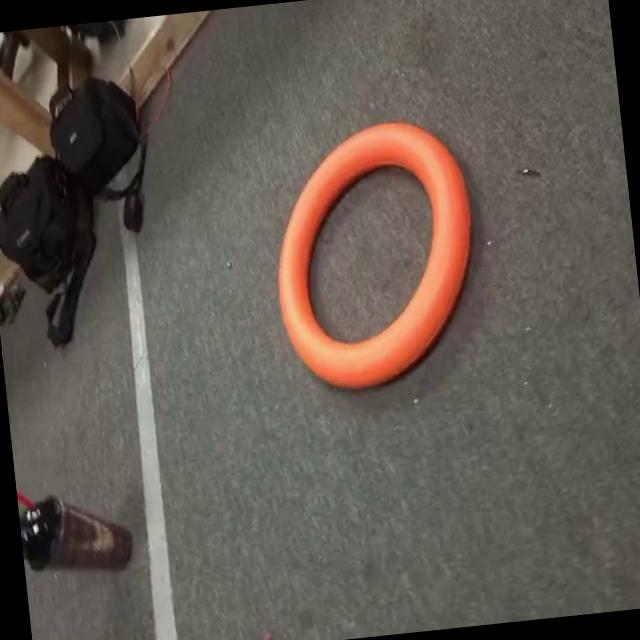note: (243, 106, 510, 416)
